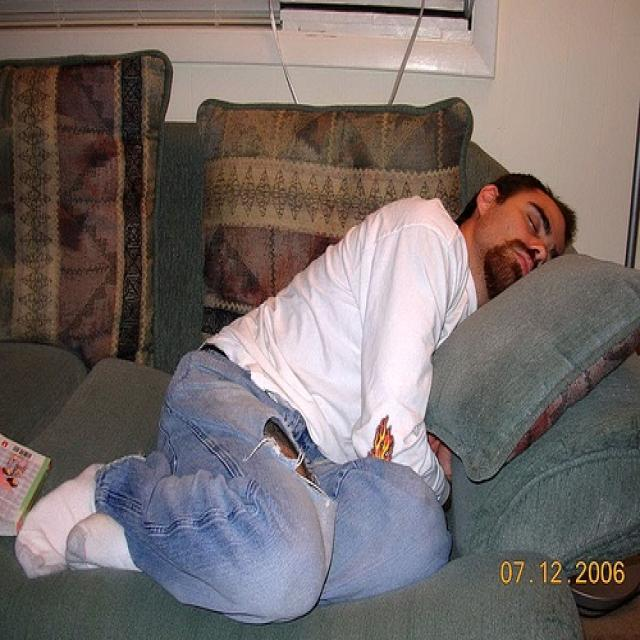sofa: (0, 104, 634, 638)
